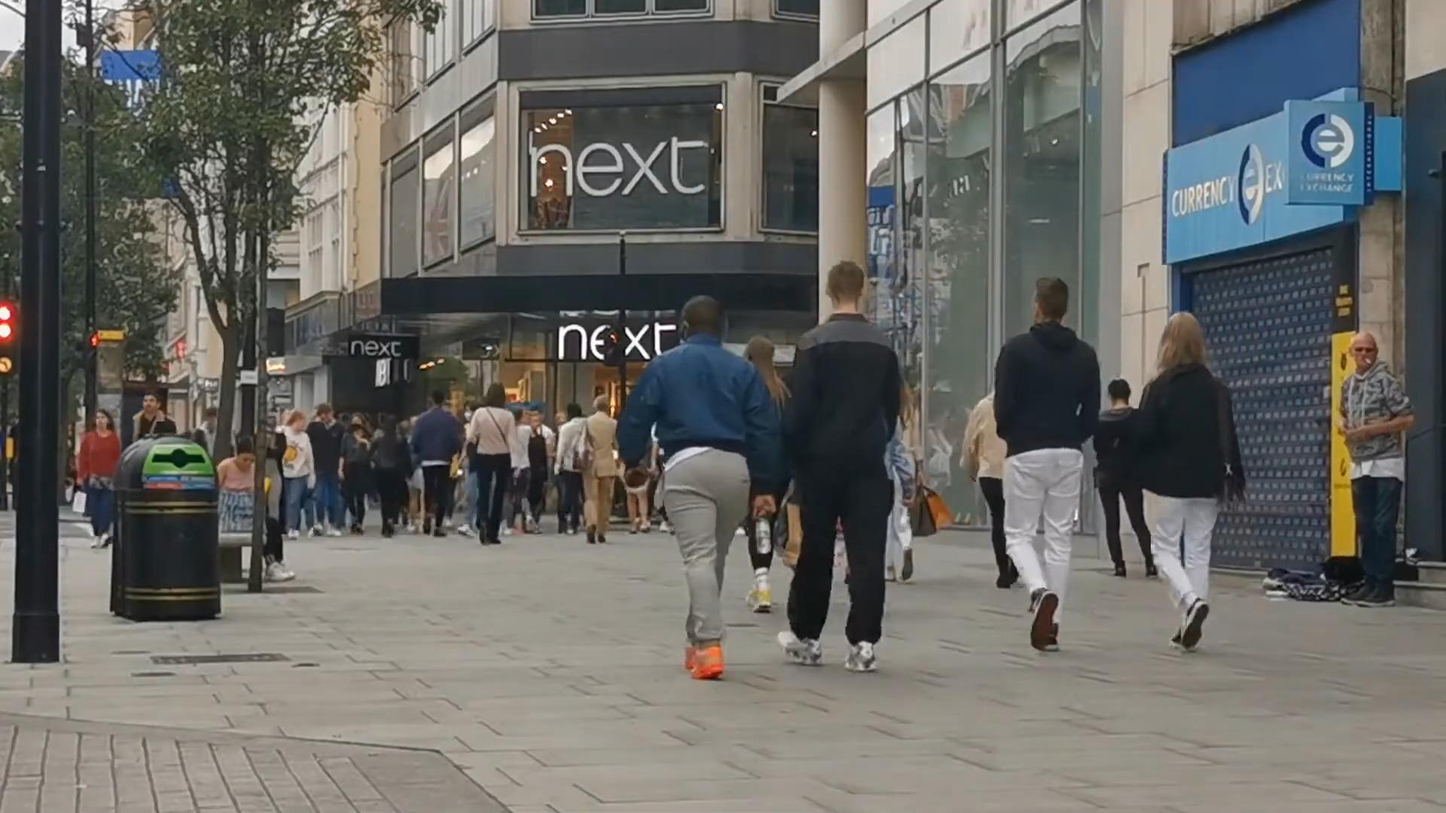no-helmet: (1156, 311, 1207, 371), (679, 295, 728, 342), (743, 335, 779, 387), (826, 260, 864, 309), (1032, 276, 1069, 323), (1348, 331, 1379, 371), (235, 434, 256, 470), (1108, 379, 1132, 407), (487, 382, 506, 409), (92, 409, 115, 431), (142, 391, 161, 414), (593, 393, 611, 415)
